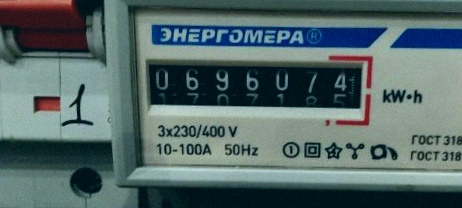0: (151, 65, 171, 90), (273, 66, 290, 92)
4: (331, 68, 348, 90)
5: (332, 93, 348, 108)
6: (244, 66, 262, 92), (183, 66, 201, 91)
7: (303, 68, 321, 93)
9: (213, 66, 230, 92)
screen: (134, 46, 376, 121)
